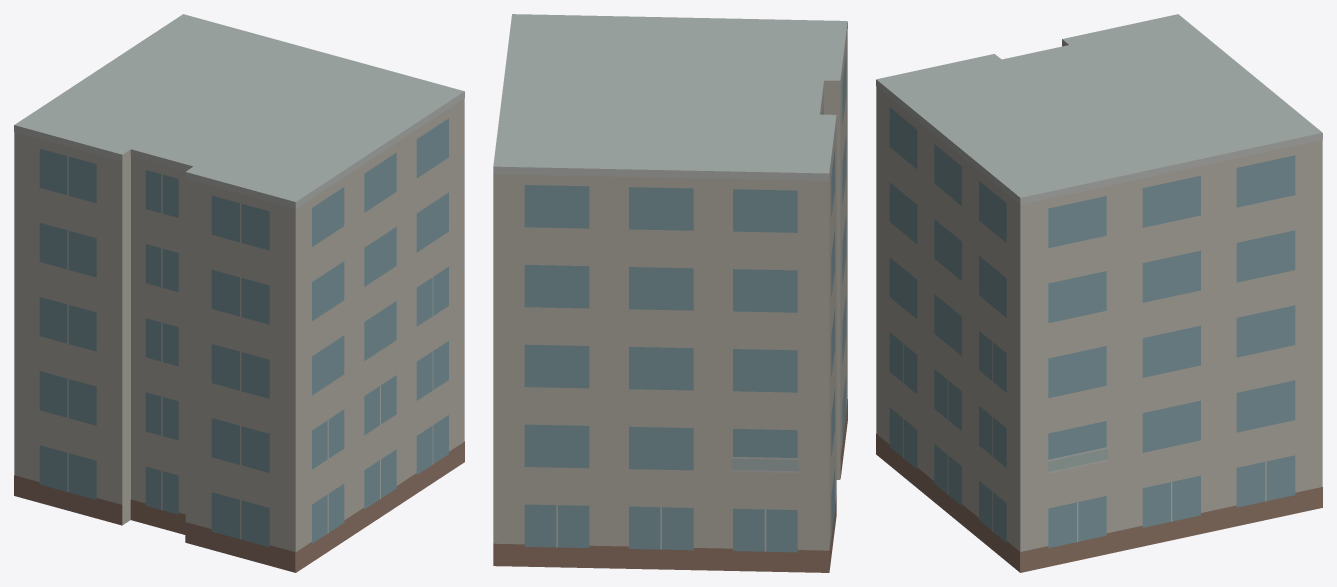
Rendered from survey-upis-32971973.glb.
3 renders of one model, left to right at view 1: azimuth 30°, elevation 25°; view 2: azimuth 150°, elevation 25°; view 3: azimuth 270°, elevation 25°, orthographic. The views are drawn at different scales.
Parts seen in each view (by area): view 1: survey-upis-32971973.tmp; view 2: survey-upis-32971973.tmp; view 3: survey-upis-32971973.tmp.
Part boxes in pixels (x1,y1,x2,y2): survey-upis-32971973.tmp: (14,14,464,572); survey-upis-32971973.tmp: (493,14,847,572); survey-upis-32971973.tmp: (876,14,1322,572).
Bounding box in the file's own units: 13.79 × 13.1 × 14.15.
